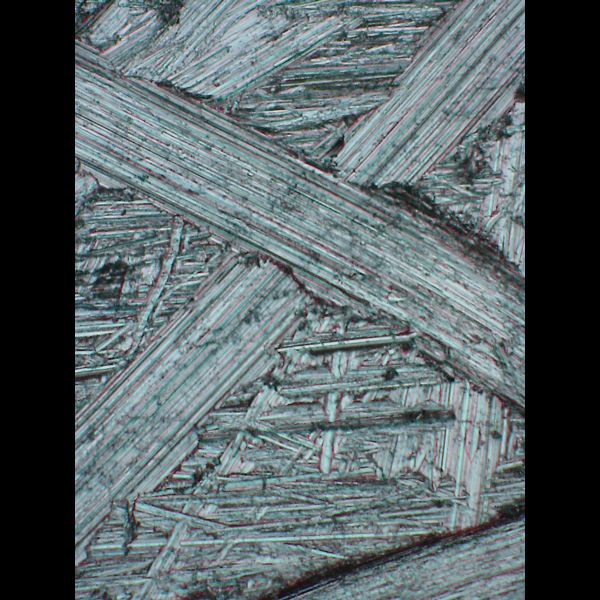d: (76, 0, 525, 570)
